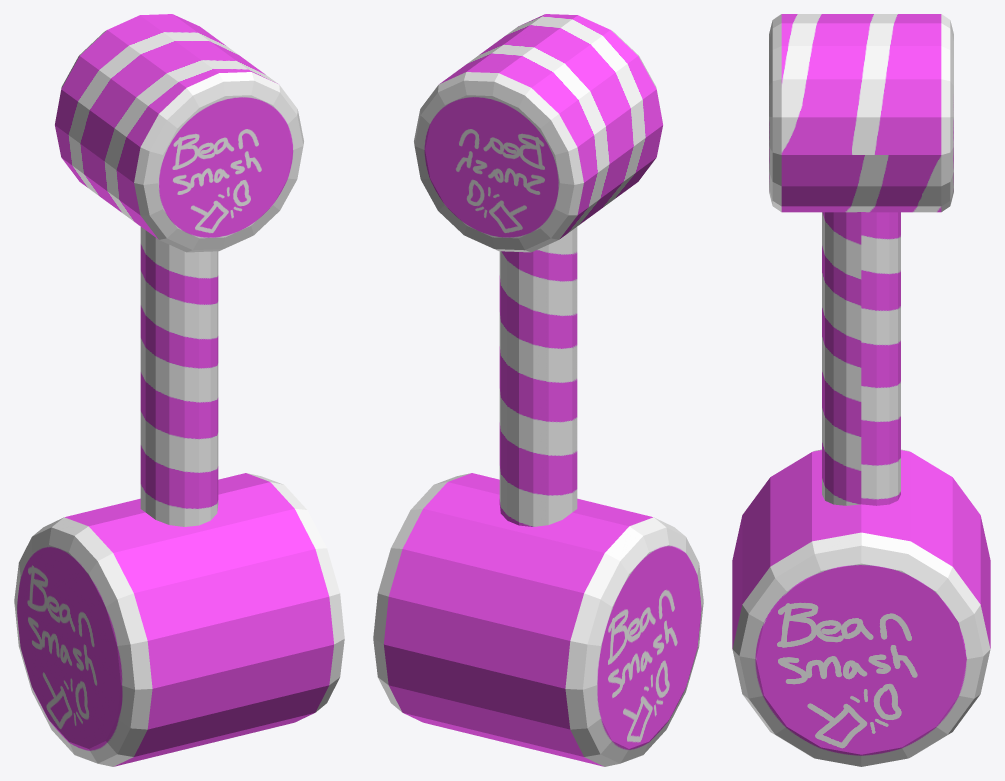
Rendered from Thumpy.fbx.
3 views of the same model, side by side, from view 1: azimuth 30°, elevation 25°; view 2: azimuth 150°, elevation 25°; view 3: azimuth 270°, elevation 25° (orthographic).
Parts seen in each view (by area): view 1: Smacky Spin Base; view 2: Smacky Spin Base; view 3: Smacky Spin Base.
Part boxes in pixels (left/top/right/bottom): Smacky Spin Base: left=14, top=14, right=344, bottom=766; Smacky Spin Base: left=373, top=14, right=703, bottom=766; Smacky Spin Base: left=732, top=14, right=990, bottom=766.
Bounding box in the file's own units: 1.14 × 3.42 × 1.14.
